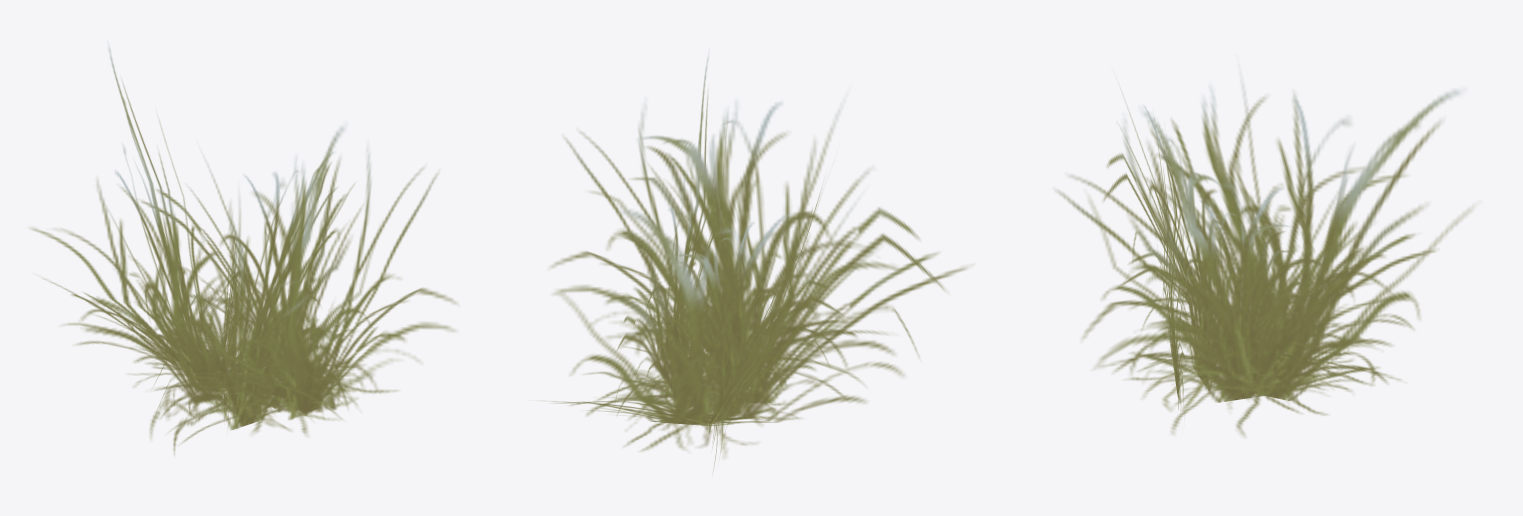
Rendered from ichu_07_nieve.glb.
3 renders of one model, left to right at view 1: azimuth 30°, elevation 25°; view 2: azimuth 150°, elevation 25°; view 3: azimuth 270°, elevation 25°, orthographic. The views are drawn at different scales.
Parts seen in each view (by area): view 1: Ichu; view 2: Ichu; view 3: Ichu.
Boxes of the visible parts, left/top/right/bottom form: Ichu: left=30, top=43, right=456, bottom=454; Ichu: left=551, top=54, right=967, bottom=471; Ichu: left=1055, top=72, right=1472, bottom=436.
Size of the model in its own units: 0.3669 by 0.29 by 0.3587.
Materials: 1 (1 with a texture image).
